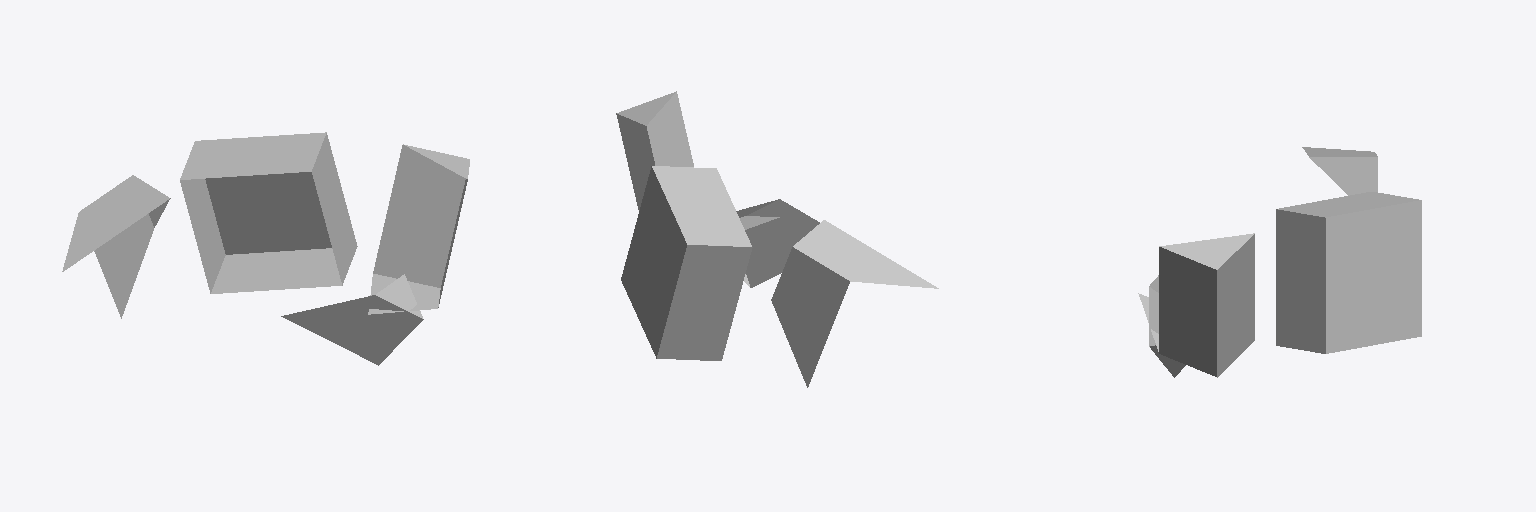
Rendered from test_explosion.obj.
The picture shows the model from 3 angles: view 1: azimuth 30°, elevation 25°; view 2: azimuth 150°, elevation 25°; view 3: azimuth 270°, elevation 25°; orthographic projection.
Visible parts, largest first — view 1: Cube; view 2: Cube; view 3: Cube.
Part boxes in pixels (left/top/right/bottom): Cube: left=62, top=132, right=469, bottom=365; Cube: left=616, top=91, right=938, bottom=387; Cube: left=1138, top=147, right=1421, bottom=377.
Bounding box in the file's own units: 6.09 × 2.8 × 4.08.